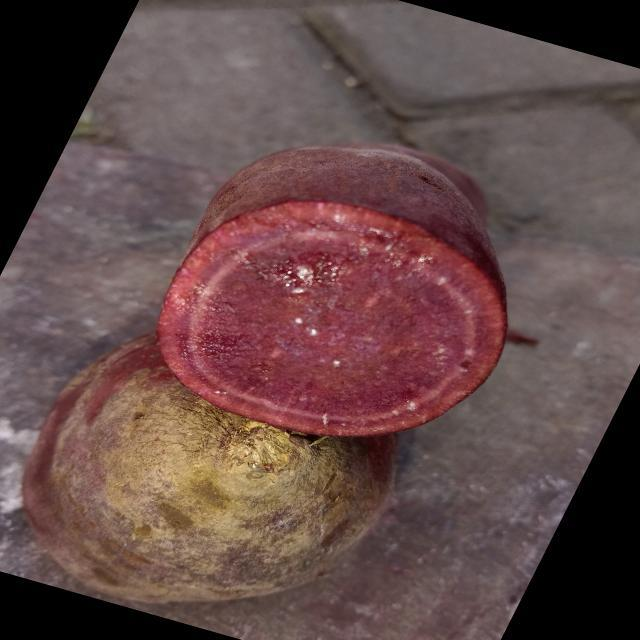Healthy Sweet Potato: (157, 201, 507, 436)
